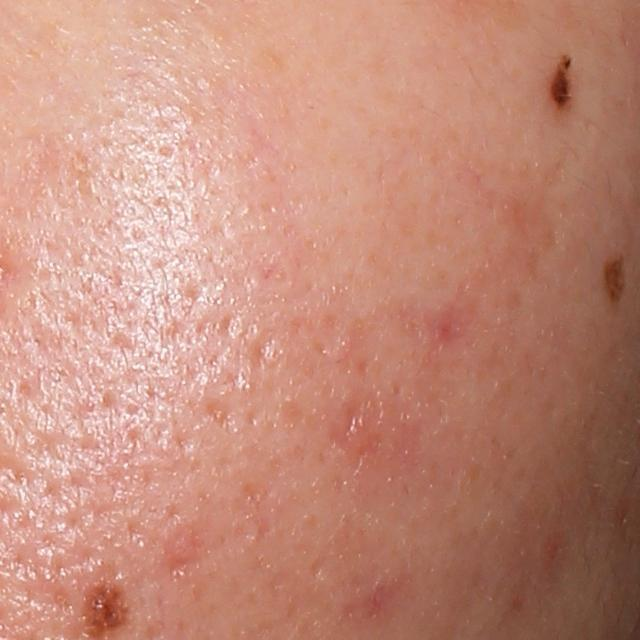atrophic_scar: (206, 398, 245, 436), (249, 324, 280, 365)
nevus: (78, 575, 133, 640), (548, 50, 574, 111), (602, 255, 626, 304)
